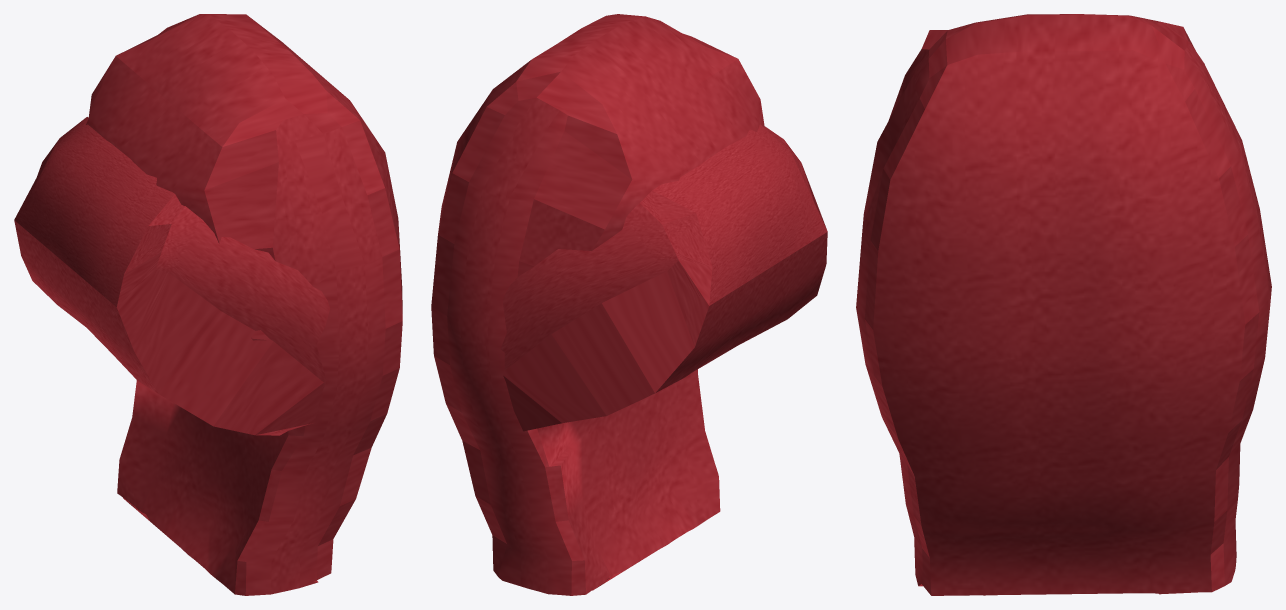
File: glove.FBX
The picture shows the model from 3 angles, left to right: view 1: azimuth 30°, elevation 25°; view 2: azimuth 150°, elevation 25°; view 3: azimuth 270°, elevation 25°; orthographic projection. The views are drawn at different scales.
Parts seen in each view (by area): view 1: glove, glove001; view 2: glove, glove001; view 3: glove.
Boxes of the visible parts, box(x1,y1,x2,y2) form: glove: box(86, 14, 402, 595); glove001: box(14, 117, 330, 435); glove: box(431, 14, 764, 595); glove001: box(500, 124, 827, 431); glove: box(856, 14, 1271, 595).
Size of the model in its own units: 102 by 170 by 114.
